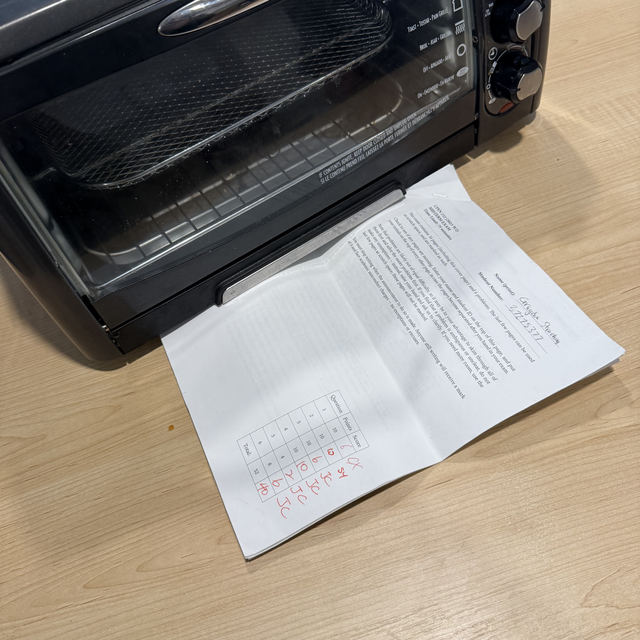Paper: (165, 162, 624, 556)
Toaster Oven: (0, 0, 640, 370)
